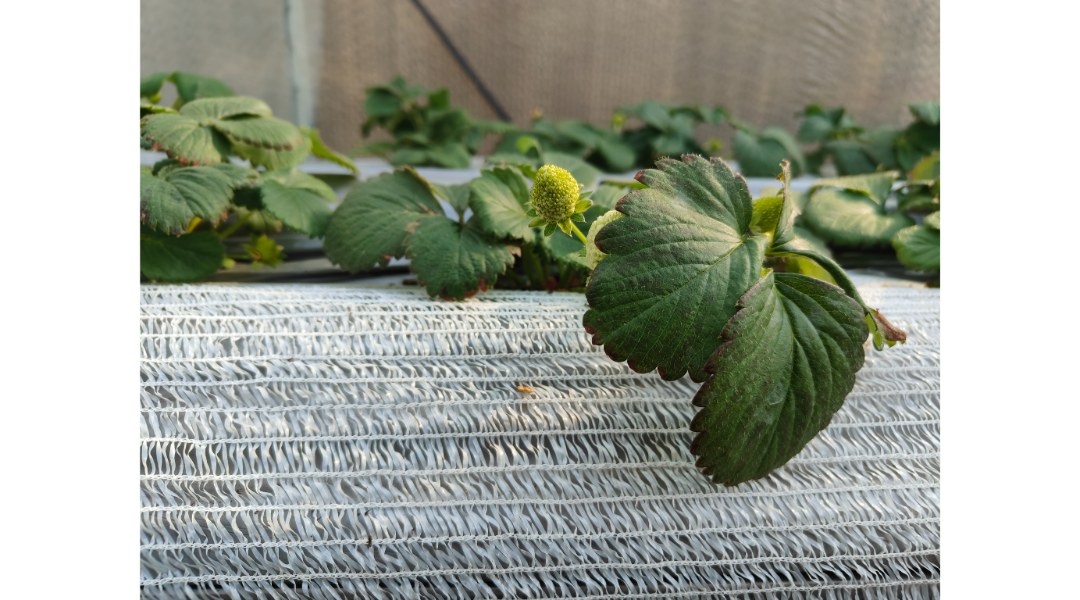berry: (517, 148, 596, 244)
